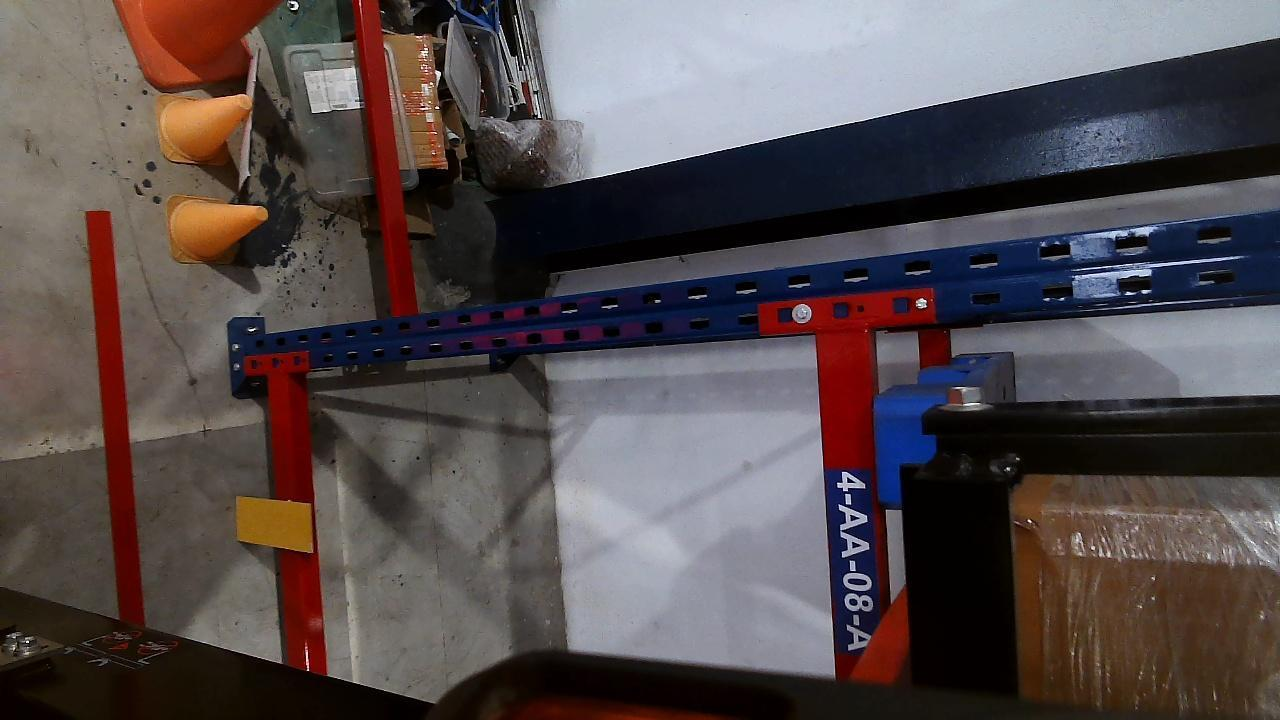red_line: (84, 210, 143, 622)
